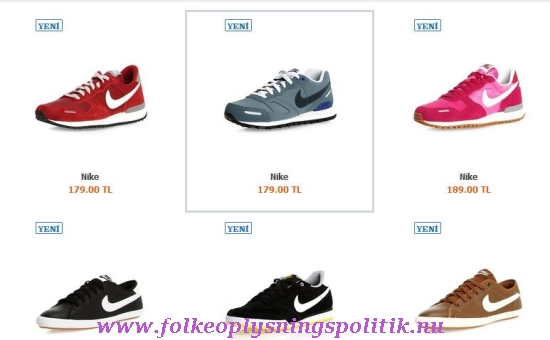nike: (292, 288, 332, 314), (104, 83, 140, 110), (294, 82, 331, 107), (100, 291, 141, 313), (481, 292, 523, 313), (481, 84, 518, 107)
